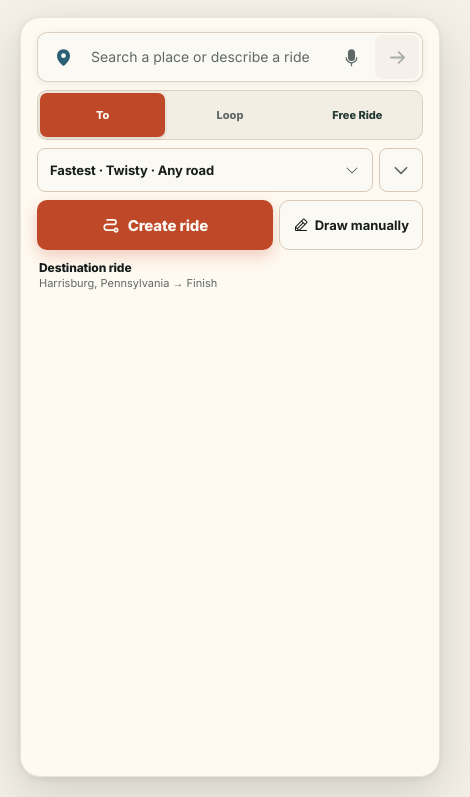
planner command surface › uses rider-goal groups instead of implementation-facing option buckets
Click the button with aria-label "Ride options" at (205, 170), box 37,148 -> 373,192
(page scrolled)
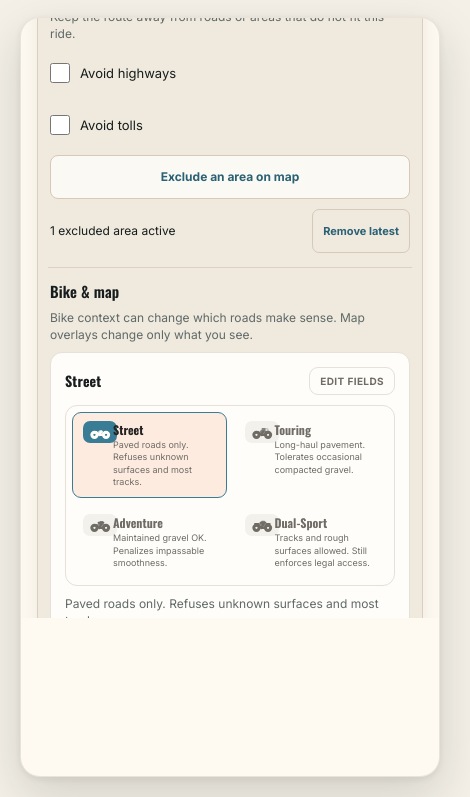
Expected: the element "Avoid" is shown, 48,18 -> 412,268
Expected: the element "Bike & map" is shown, 48,268 -> 412,618
Expected: the text "1 excluded area active" is shown, 50,224 -> 175,238
